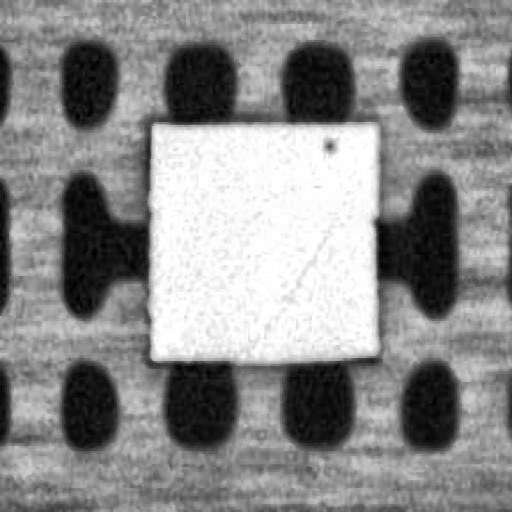DIE_CRACK: (253, 210, 335, 334)
